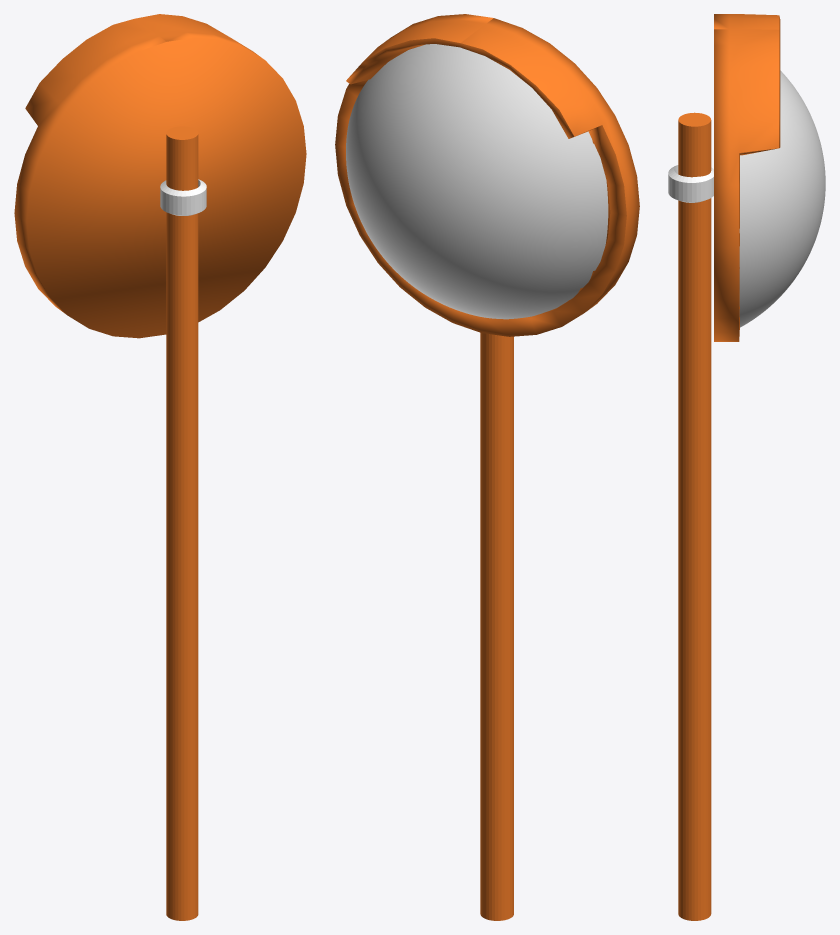
File: curve_mirror.glb
3 renders of one model, left to right at view 1: azimuth 30°, elevation 25°; view 2: azimuth 150°, elevation 25°; view 3: azimuth 270°, elevation 25°, orthographic. The views are drawn at different scales.
Visible parts, largest first — view 1: curve_mirror; view 2: curve_mirror; view 3: curve_mirror.
Boxes of the visible parts, left/top/right/bottom form: curve_mirror: left=14, top=14, right=306, bottom=920; curve_mirror: left=335, top=14, right=639, bottom=920; curve_mirror: left=668, top=14, right=825, bottom=920.
Bounding box in the file's own units: 1.25 × 3.7 × 0.5988.
